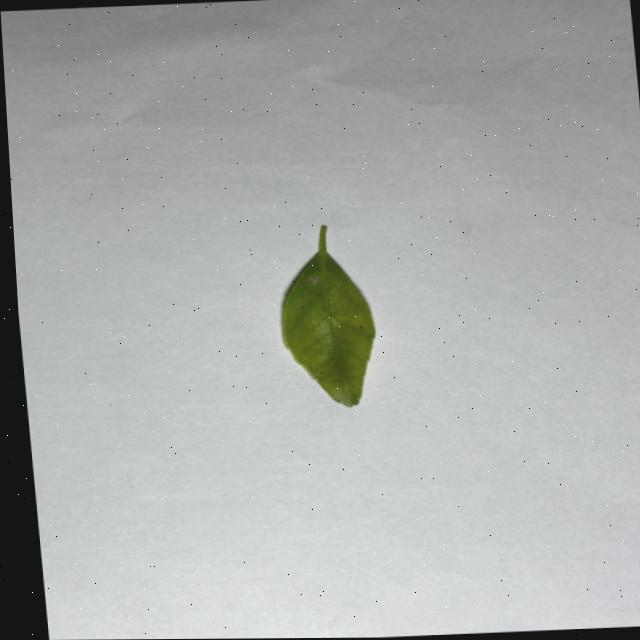greening: (282, 225, 375, 406)
